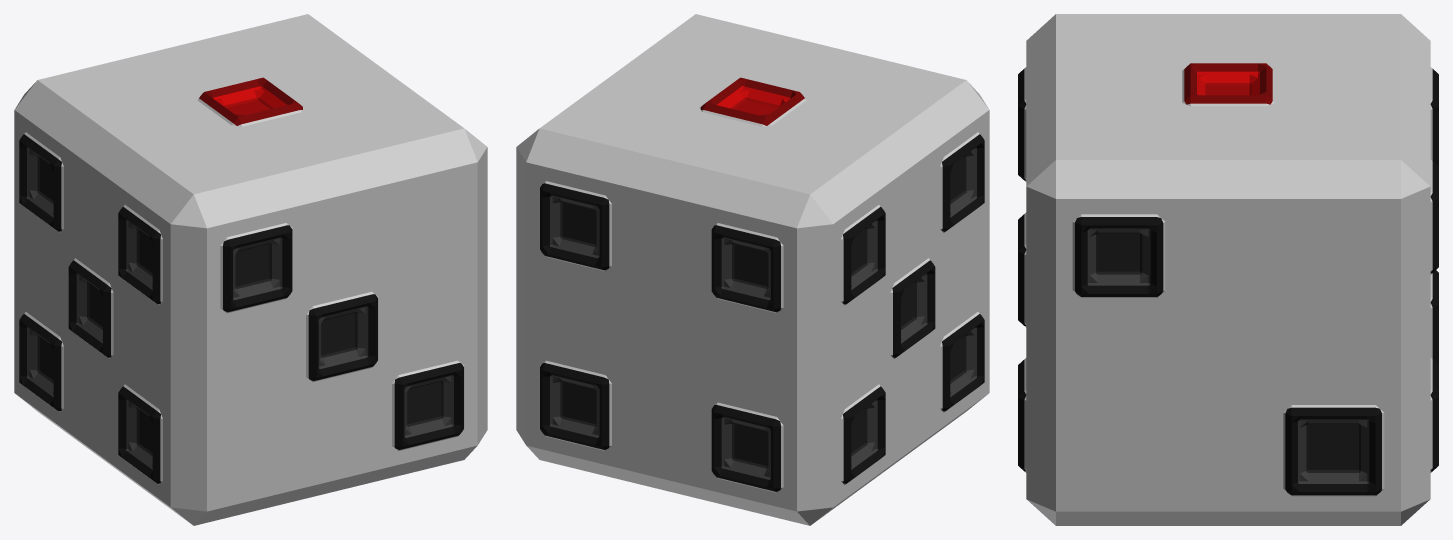
Rendered from Dice_mc.fbx.
3 renders of one model, left to right at view 1: azimuth 30°, elevation 25°; view 2: azimuth 150°, elevation 25°; view 3: azimuth 270°, elevation 25°, orthographic. The views are drawn at different scales.
Visible parts, largest first — view 1: Dice_vox; view 2: Dice_vox; view 3: Dice_vox.
Part boxes in pixels (x1,y1,x2,y2): Dice_vox: [14, 14, 487, 525]; Dice_vox: [516, 14, 989, 525]; Dice_vox: [1018, 14, 1438, 525].
Bounding box in the file's own units: 5 × 5 × 5.
